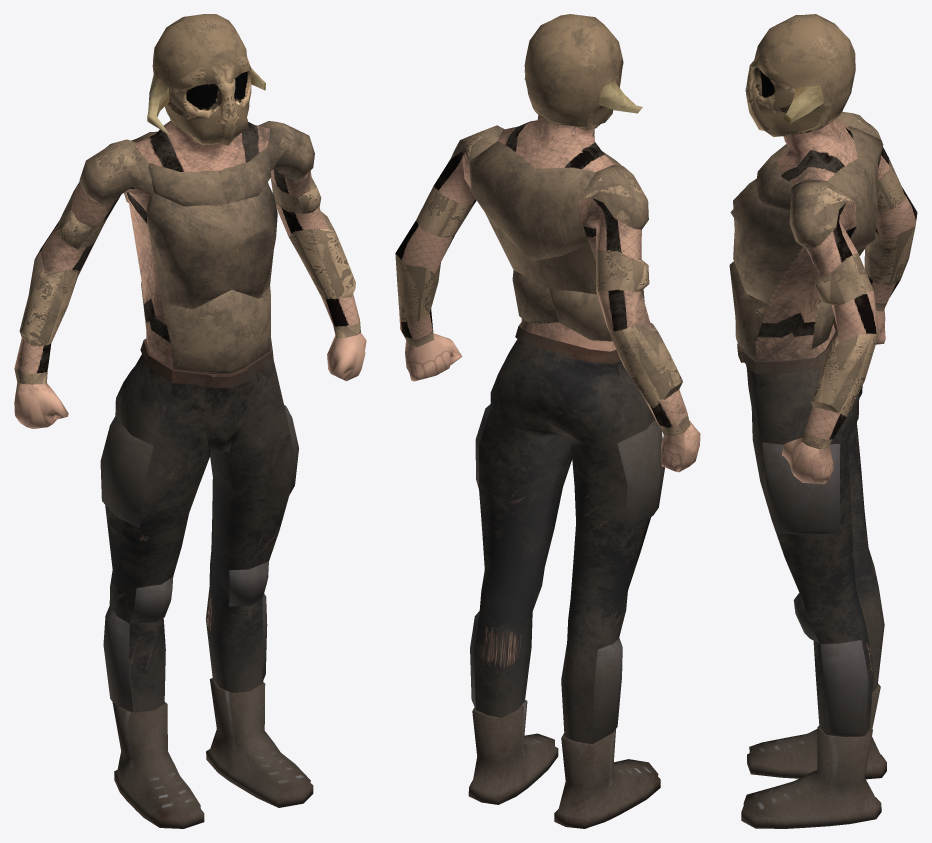
Rendered from Anim_ataque_f2_npc1.0008.obj.
The picture shows the model from 3 angles, left to right: view 1: azimuth 30°, elevation 25°; view 2: azimuth 150°, elevation 25°; view 3: azimuth 270°, elevation 25°; orthographic projection.
Visible parts, largest first — view 1: NPC2; view 2: NPC2; view 3: NPC2.
Part boxes in pixels (x1,y1,x2,y2): NPC2: (14,14,366,828); NPC2: (395,14,700,828); NPC2: (729,14,917,828).
Size of the model in its own units: 4.14 by 9.65 by 2.14.
